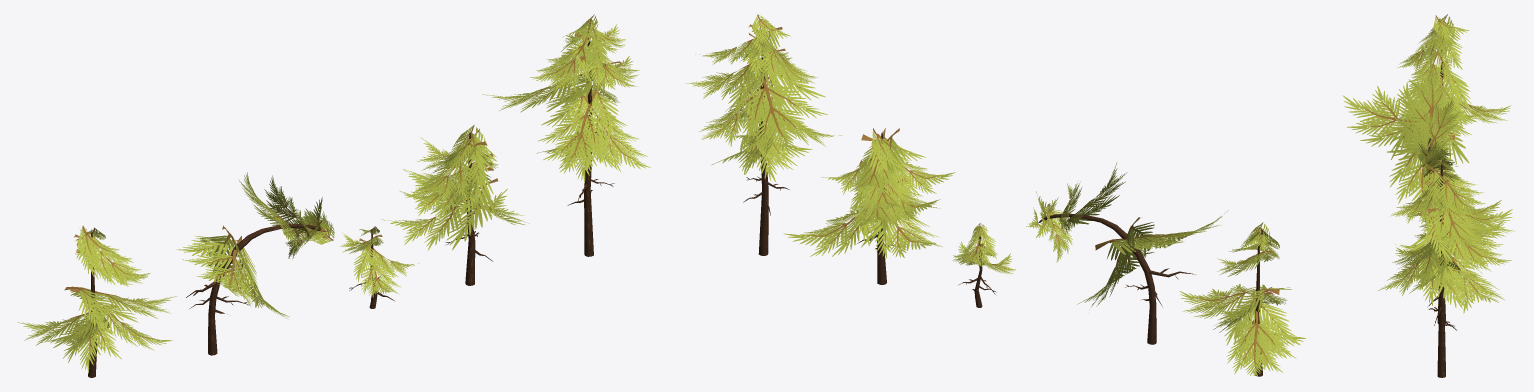
File: pine_trees_free_model_lo.glb
The picture shows the model from 3 angles, left to right: view 1: azimuth 30°, elevation 25°; view 2: azimuth 150°, elevation 25°; view 3: azimuth 270°, elevation 25°; orthographic projection. The views are drawn at different scales.
Parts seen in each view (by area): view 1: PineTree_2, PineTree_1, PineTree_5, PineTree_4, PineTree_3; view 2: PineTree_2, PineTree_1, PineTree_5, PineTree_4, PineTree_3; view 3: PineTree_2, PineTree_4, PineTree_5, PineTree_1.
Boxes of the visible parts, <box> form: PineTree_2: <box>482,14,650,256</box>; PineTree_1: <box>381,125,529,285</box>; PineTree_5: <box>17,225,176,377</box>; PineTree_4: <box>176,172,334,355</box>; PineTree_3: <box>340,226,418,308</box>; PineTree_2: <box>685,14,841,255</box>; PineTree_1: <box>783,128,955,284</box>; PineTree_5: <box>1179,222,1306,376</box>; PineTree_4: <box>1026,162,1228,344</box>; PineTree_3: <box>952,223,1015,307</box>; PineTree_2: <box>1378,158,1514,377</box>; PineTree_4: <box>1342,62,1469,217</box>; PineTree_5: <box>1393,14,1511,150</box>; PineTree_1: <box>1406,180,1504,323</box>.
Bounding box in the file's own units: 18.85 × 7.09 × 5.27.
2 materials, 2 textured.
